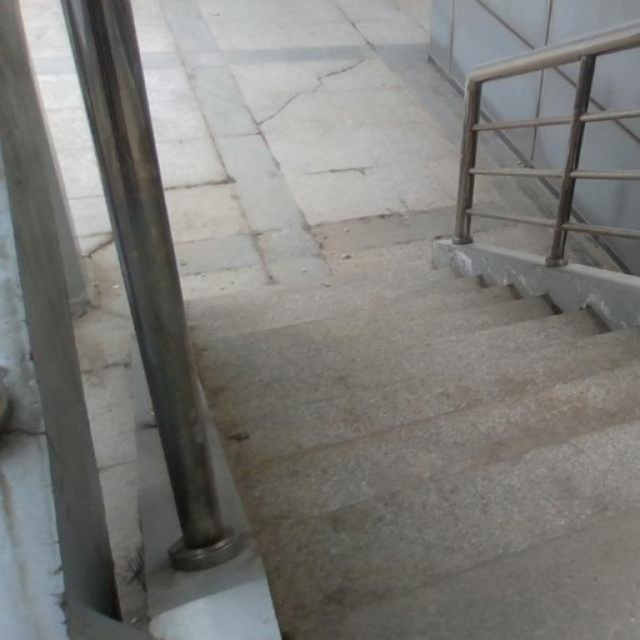stair: (224, 282, 640, 623)
